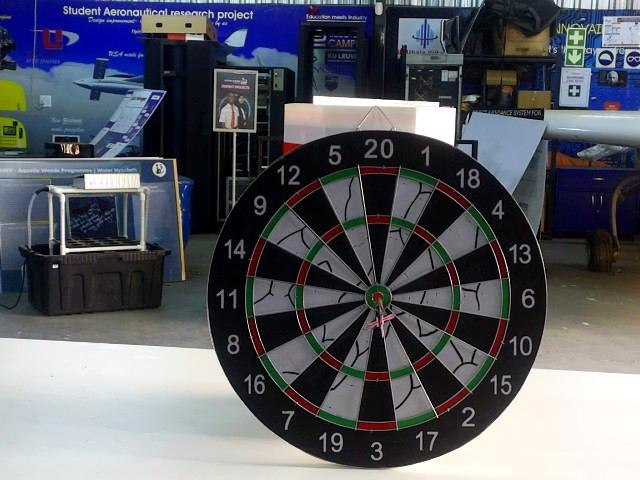bullseye: (369, 286, 390, 310)
